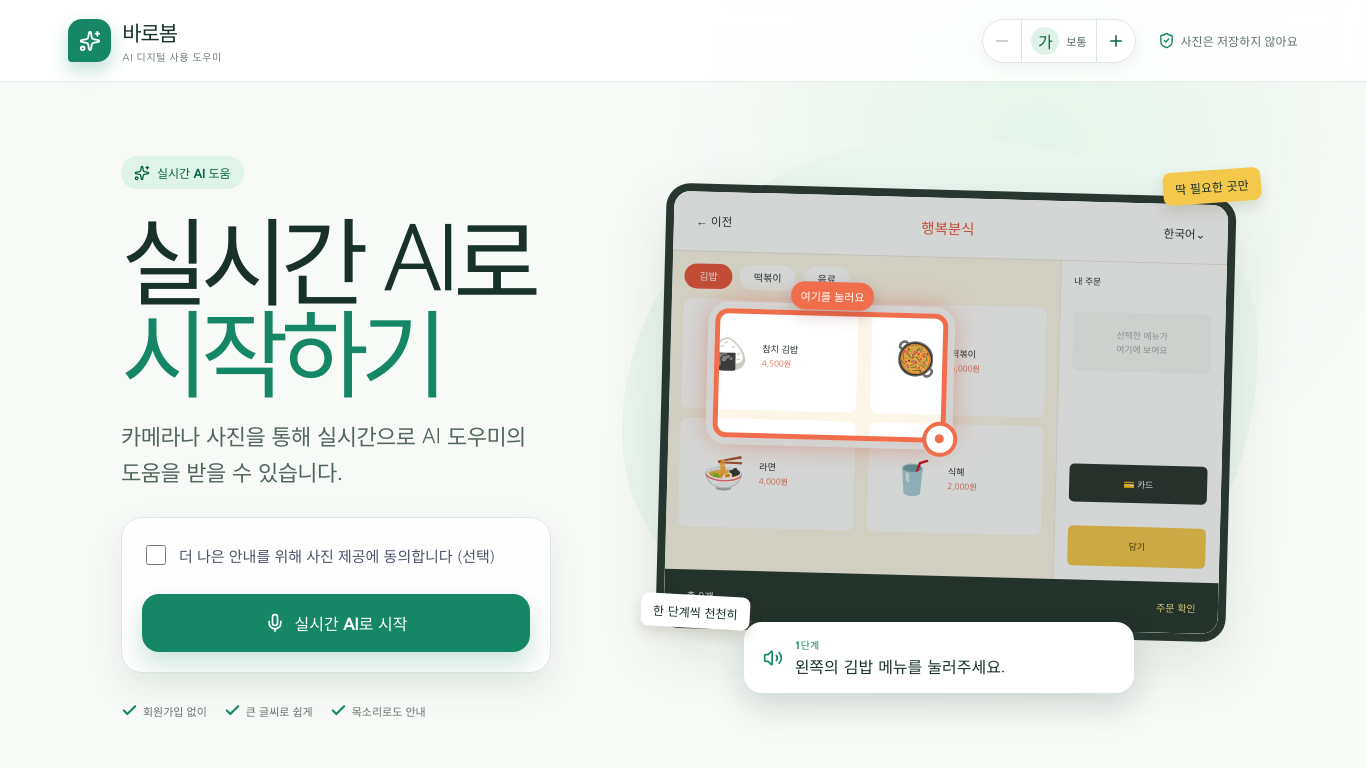
글자 크기를 보통에서 아주 크게까지 단계적으로 조절한다
The image size is (1366, 768).
Check: the text "보통" is shown, box [1066,32,1087,48]
Click the button named "글자 크게" at (1116, 40), box [1097,20,1135,62]
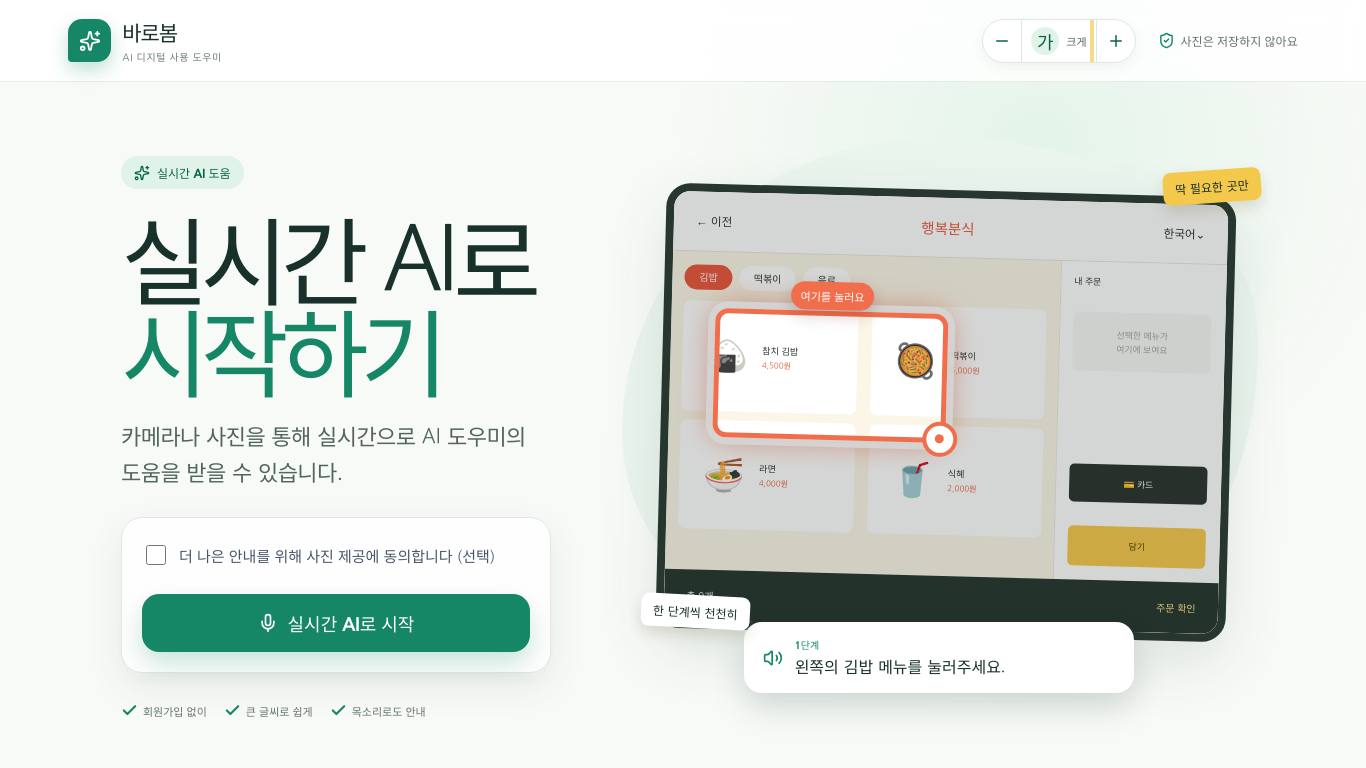
Check: the text "크게" is shown, box [1066,32,1087,48]
Click the button named "글자 크게" at (1116, 40), box [1097,20,1135,62]
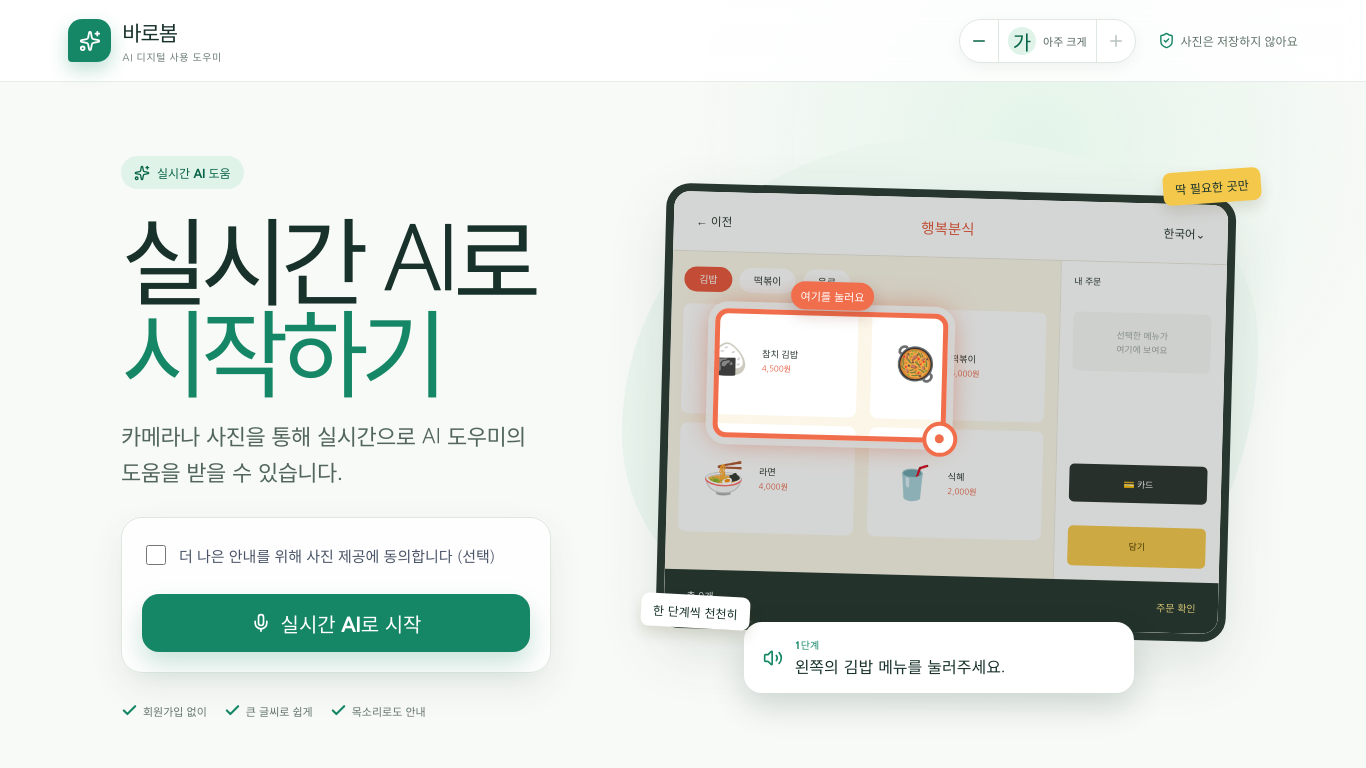
Check: the text "아주 크게" is shown, box [1043,32,1087,48]
Check: the button named "글자 크게" is disabled, box [1097,20,1135,62]
